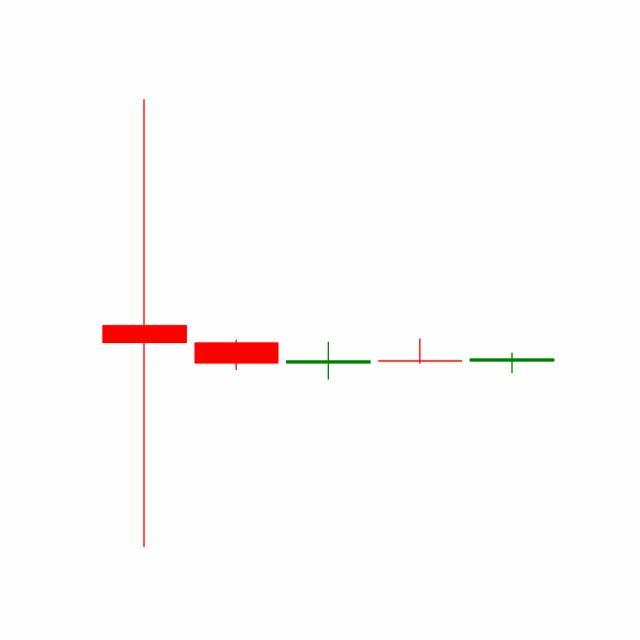Spinning Top: (466, 353, 559, 375)
